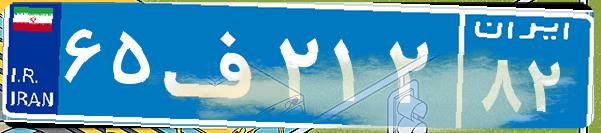1: (330, 28, 385, 110)
2: (385, 28, 445, 110), (273, 28, 330, 110), (525, 38, 570, 115)
5: (110, 28, 158, 105)
6: (57, 26, 110, 107)
8: (475, 38, 525, 113)
ف: (158, 15, 273, 115)
